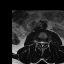CCS_normal: (41, 39, 43, 49)
LFS_stenosis: (45, 39, 47, 45)
LLS_stenosis: (43, 39, 45, 46)
RFS_normal: (37, 39, 39, 45)
RLS_normal: (39, 39, 41, 46)
